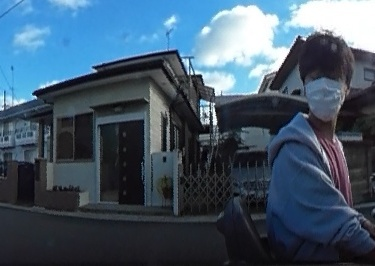person: (268, 30, 375, 265)
